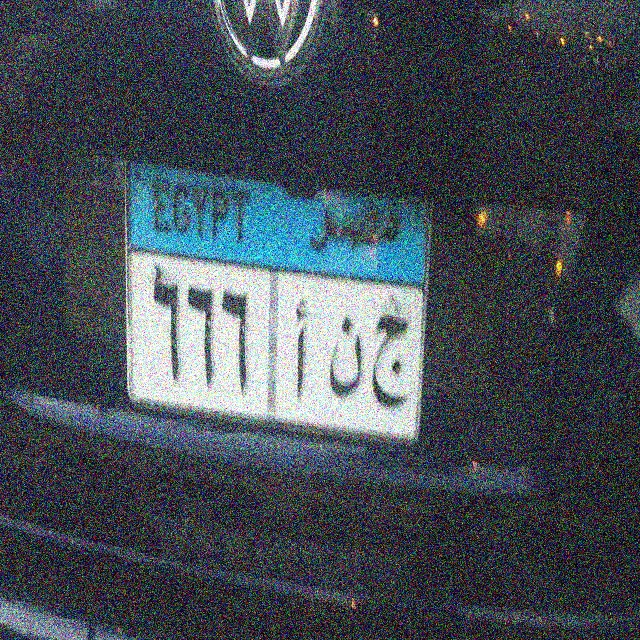License Plate: (119, 147, 436, 447)
